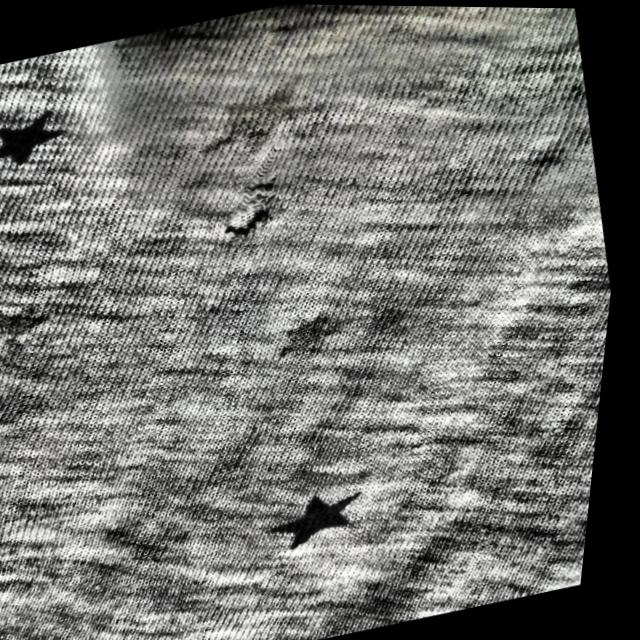Stitch: (208, 128, 311, 245)
